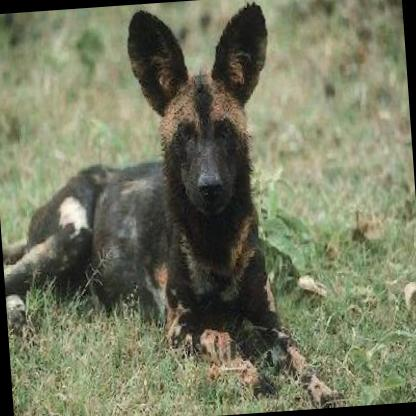African_hunting_dog: (0, 0, 344, 416)
